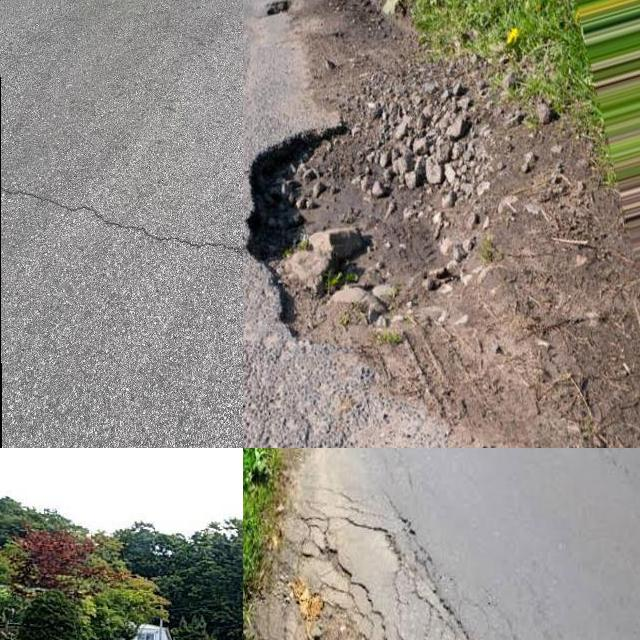Melintang: (0, 175, 243, 268)
Pinggir: (243, 121, 522, 434), (243, 460, 432, 640)
